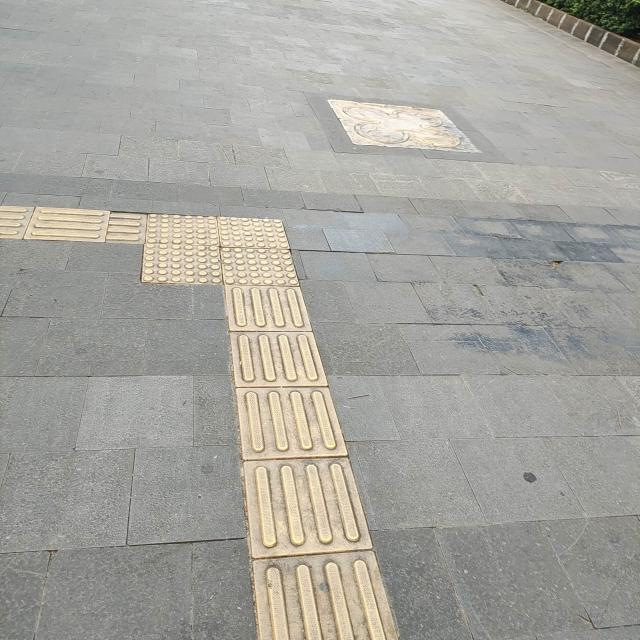kiri: (37, 183, 353, 334)
